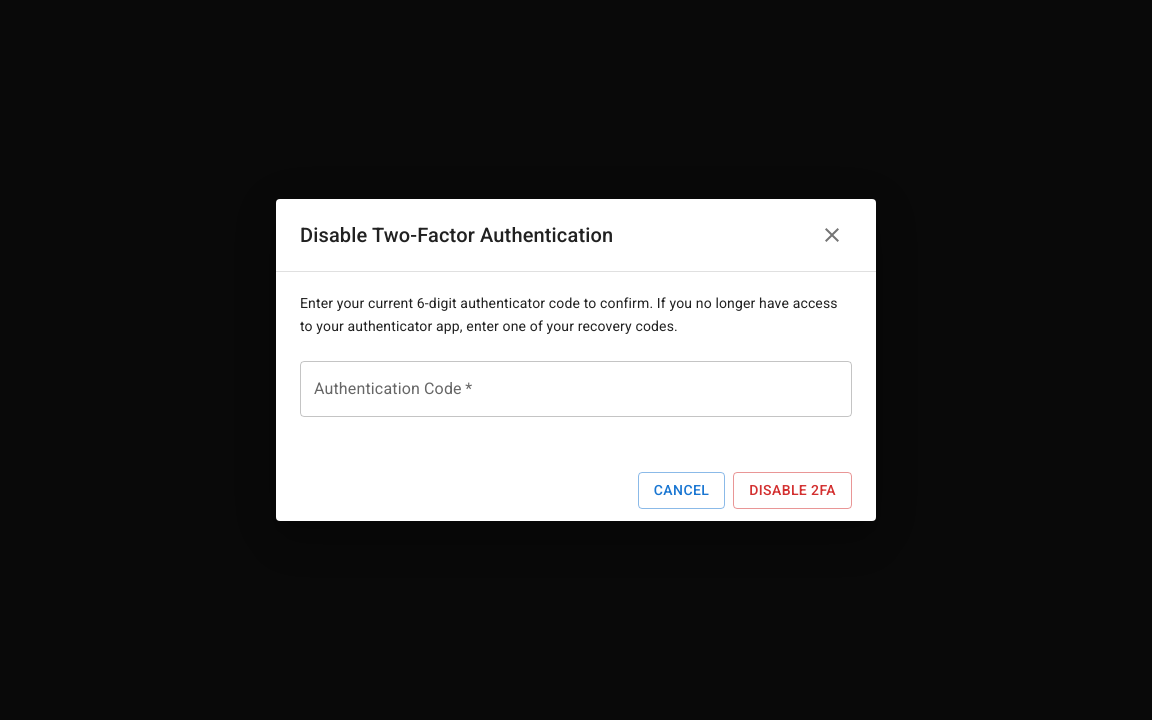
Test case: Disable2FADialog › Form validation › Shows validation error for code that is not TOTP or recovery format
Type "invalid" into the field labelled "Authentication Code *" at (576, 389), box [300,361,852,417]
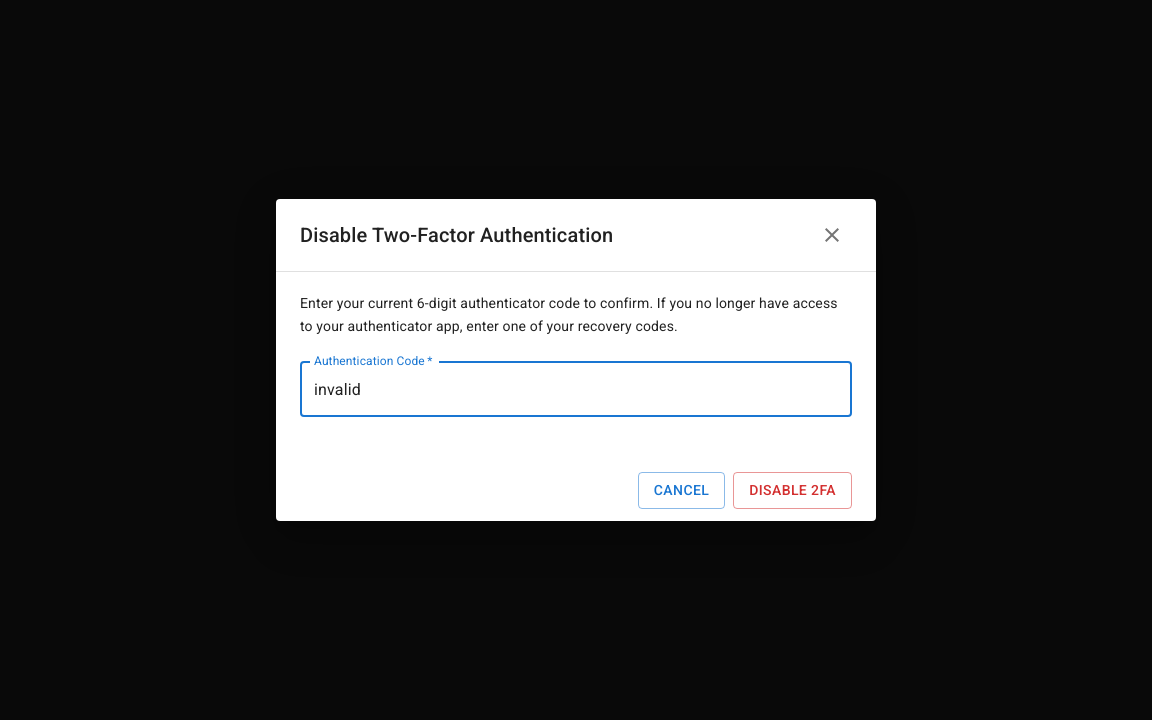
Leave the field labelled "Authentication Code *", box [300,361,852,417]
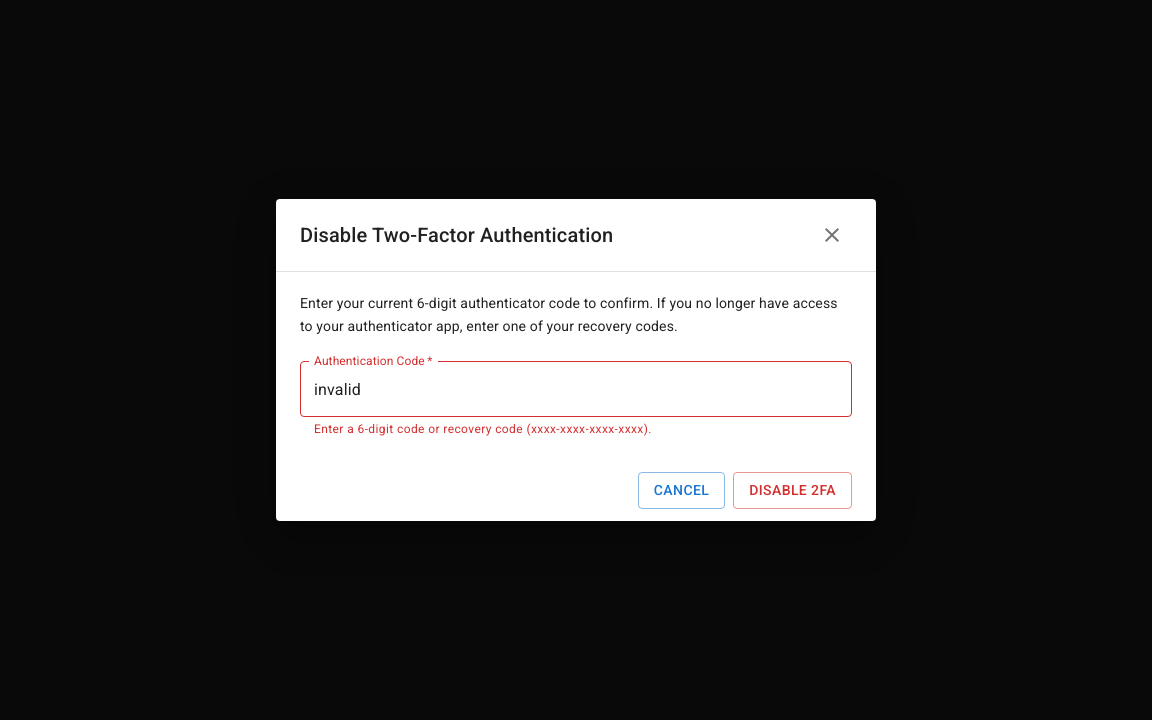
Now the text "Enter a 6-digit code or recovery code (xxxx-xxxx-xxxx-xxxx)." is shown, box [314,422,652,436]
